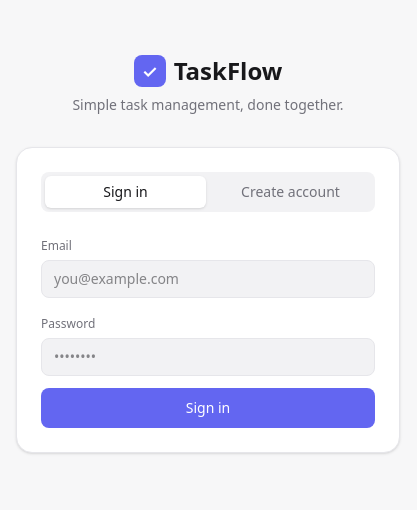
LoginPage › switches to the create-account form
Click the button "Create account" at x=290, y=192, box [210, 176, 371, 208]
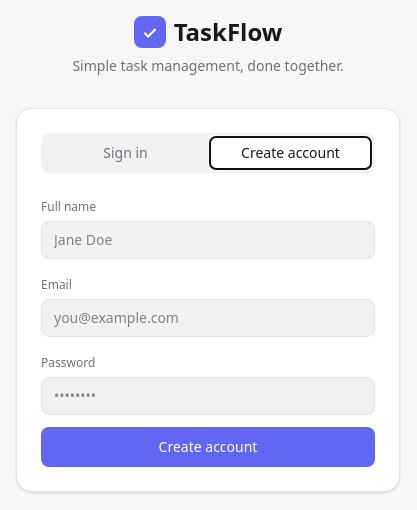
Expected: the field with placeholder "Jane Doe" is shown, [41, 221, 375, 259]
